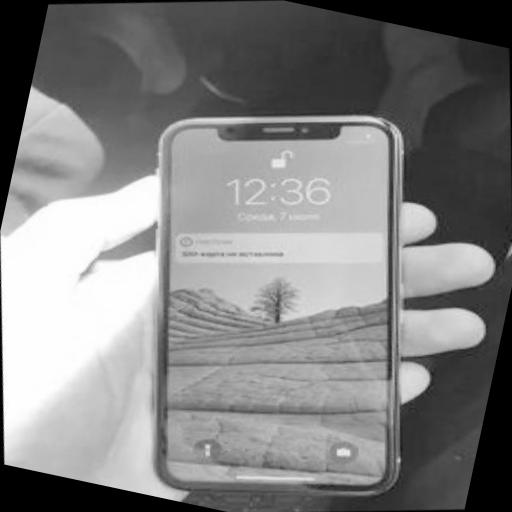phone: (149, 109, 414, 497)
